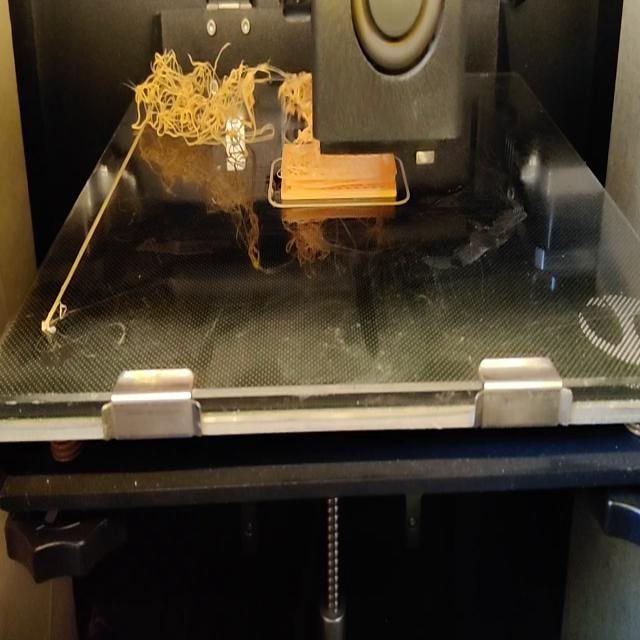spaghetti: (130, 40, 270, 151), (281, 61, 313, 144)
